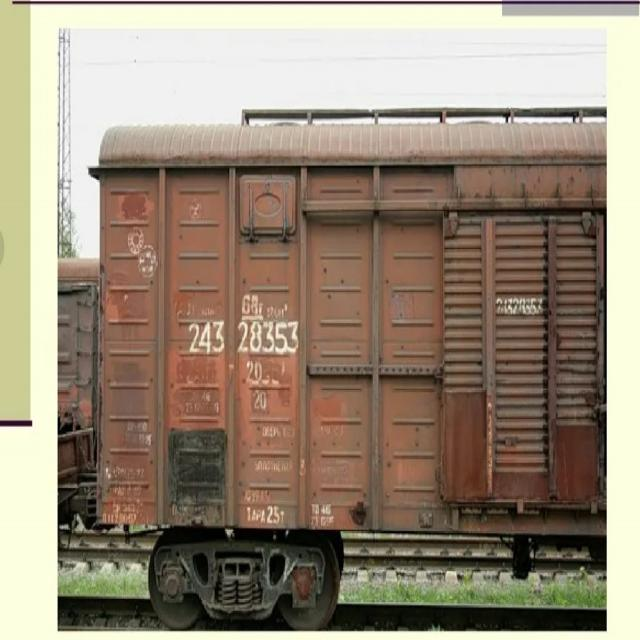boxcar: (92, 89, 602, 628)
